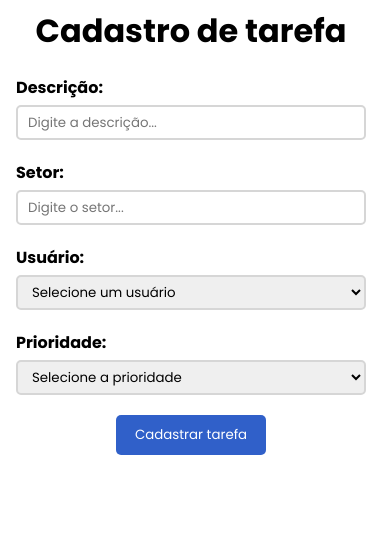
Test: CadTarefa - testes completos › Erro se descrição contiver caracteres inválidos
This screenshot has width=383, height=550.
Type "!@#$%" into the field labelled "Descrição:" at (191, 122), box [16,105,366,140]
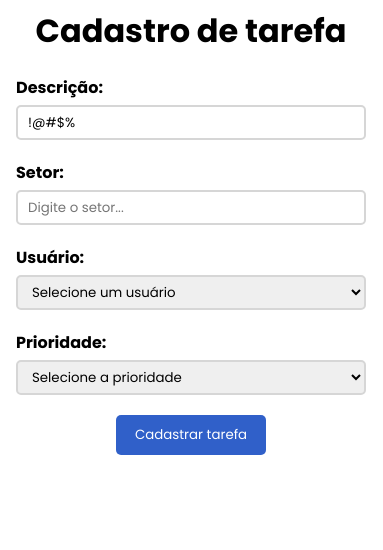
Type "TI" into the field labelled "Setor:" at (191, 208), box [16,190,366,225]
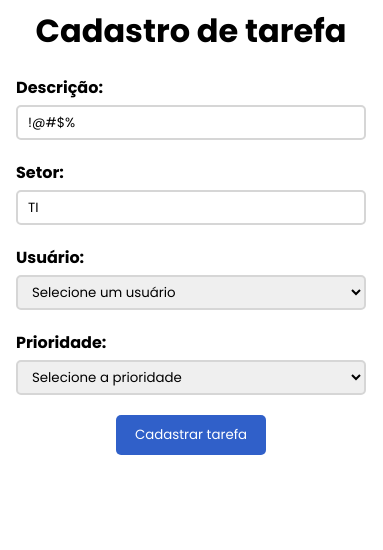
Click the button "Cadastrar tarefa" at (191, 435), box [116,415,266,455]
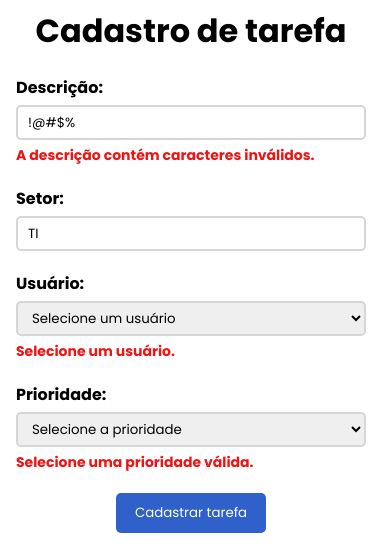
expect the text "A descrição contém caracteres inválidos." is shown: met, box [16,145,366,166]
